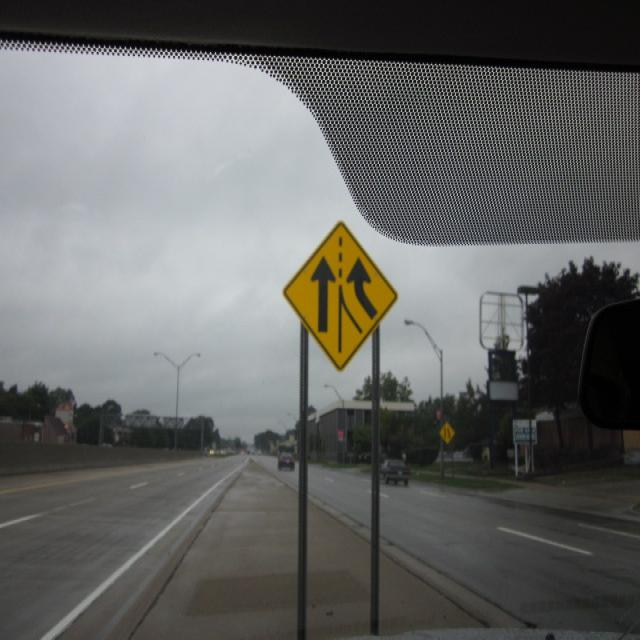warning: (282, 220, 399, 374), (436, 420, 458, 448)
